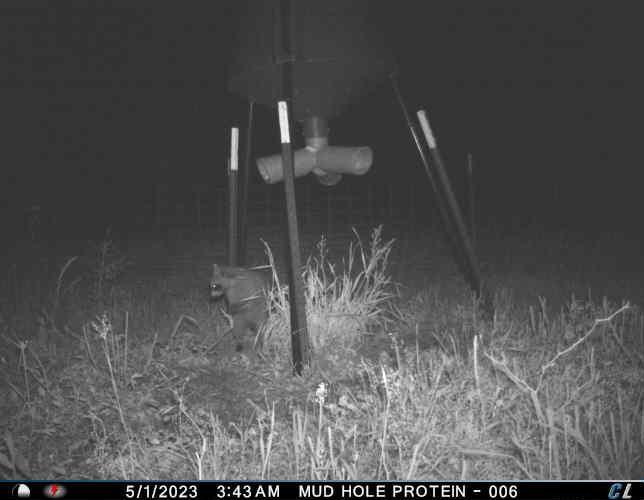Raccoon: (204, 260, 286, 355)
